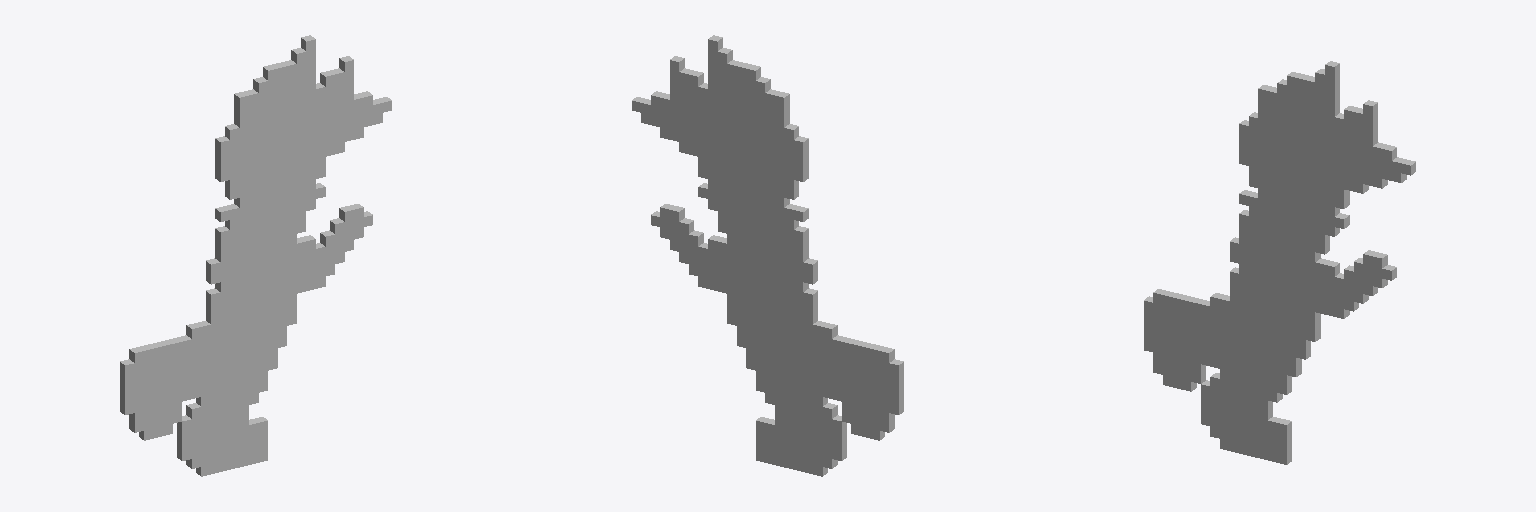
File: RunRight5.obj
The picture shows the model from 3 angles: view 1: azimuth 30°, elevation 25°; view 2: azimuth 150°, elevation 25°; view 3: azimuth 330°, elevation 25°; orthographic projection.
Parts seen in each view (by area): view 1: RunRight5; view 2: RunRight5; view 3: RunRight5.
Part boxes in pixels (left/top/right/bottom): RunRight5: left=120, top=35, right=391, bottom=476; RunRight5: left=632, top=35, right=903, bottom=476; RunRight5: left=1144, top=61, right=1415, bottom=464.
Size of the model in its own units: 2.8 by 4.1 by 0.1.